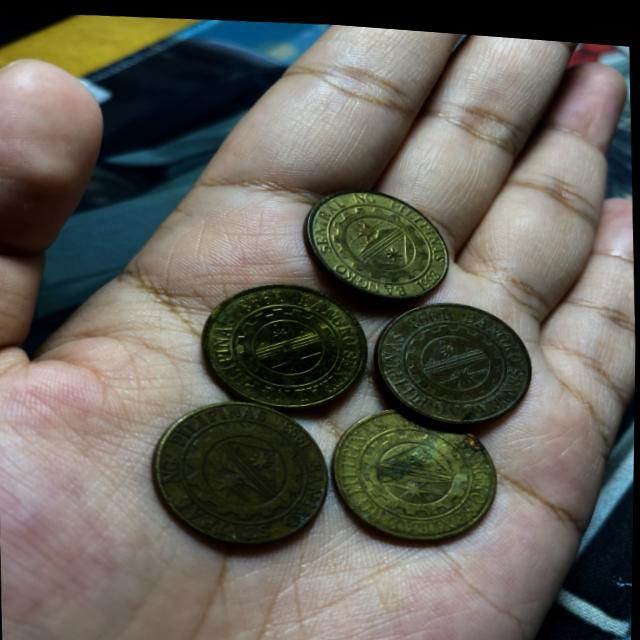25Cent_Old_Back: (202, 271, 374, 411)
